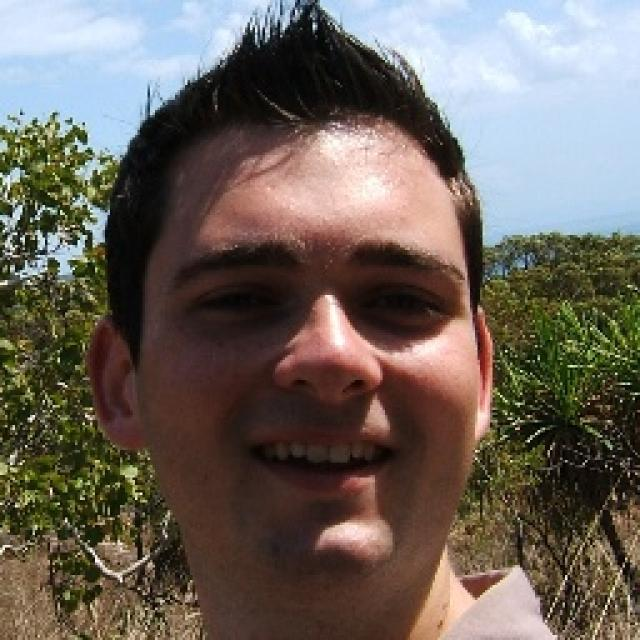earlobe: (109, 428, 149, 456), (470, 414, 494, 448)
eye: (363, 285, 443, 319), (198, 286, 274, 316)
nose: (278, 378, 383, 422)
wholeear: (83, 313, 145, 450), (472, 304, 498, 446)
